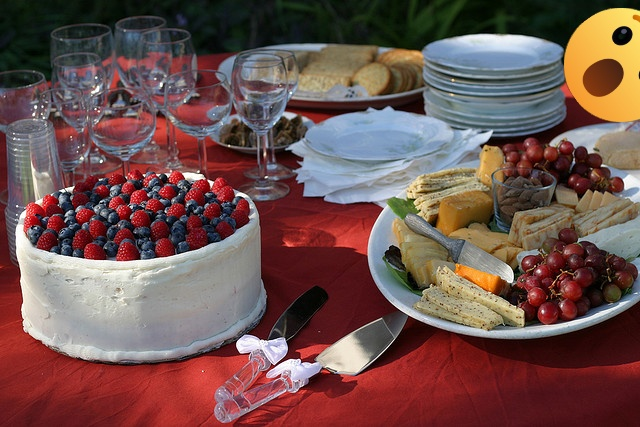wow: (564, 8, 640, 122)
